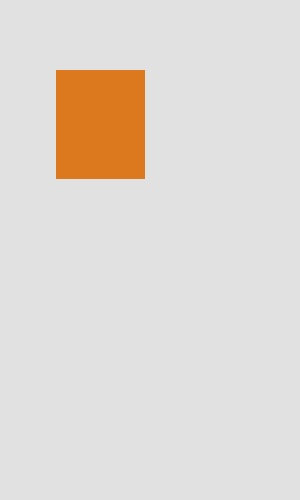square: (56, 70, 144, 178)
